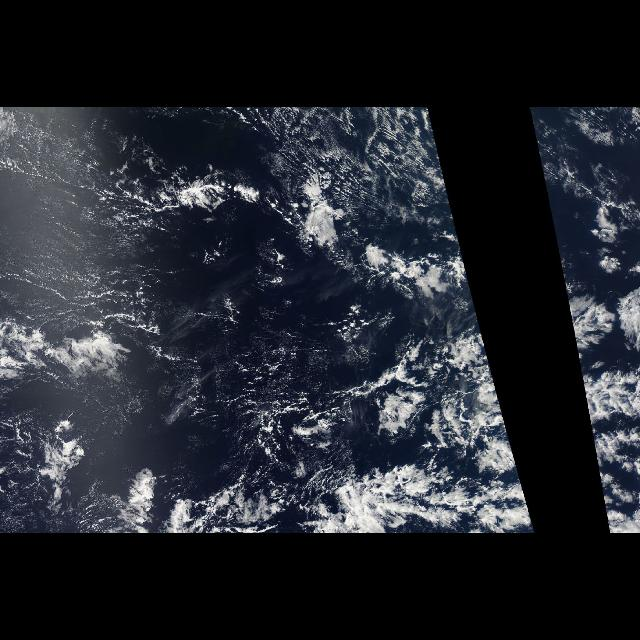Fish: (159, 151, 475, 307), (172, 449, 536, 533)
Sugar: (5, 122, 136, 314)
